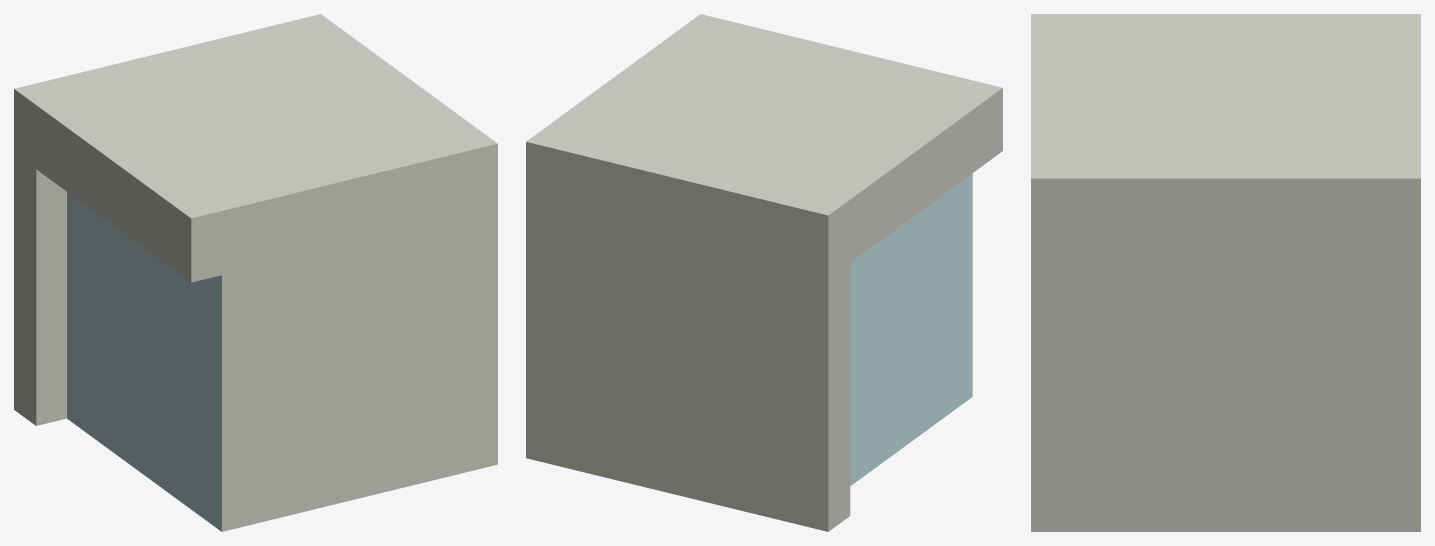
Rendered from Building Story 40.fbx.
The picture shows the model from 3 angles, left to right: view 1: azimuth 30°, elevation 25°; view 2: azimuth 150°, elevation 25°; view 3: azimuth 270°, elevation 25°; orthographic projection. The views are drawn at different scales.
Visible parts, largest first — view 1: Building Story 40; view 2: Building Story 40; view 3: Building Story 40.
Part boxes in pixels (bbox=[...]): Building Story 40: bbox=[14, 14, 497, 531]; Building Story 40: bbox=[526, 14, 1002, 531]; Building Story 40: bbox=[1031, 14, 1420, 531].
Size of the model in its own units: 1 by 1 by 1.
